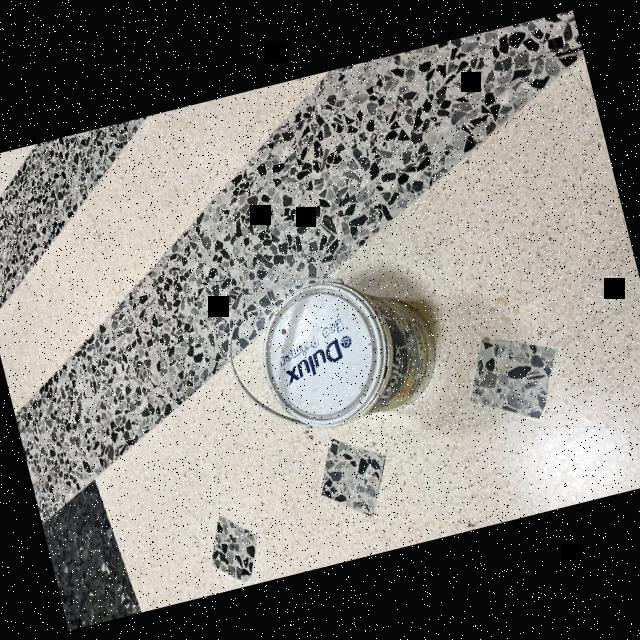paint_bucket: (198, 232, 453, 469)
